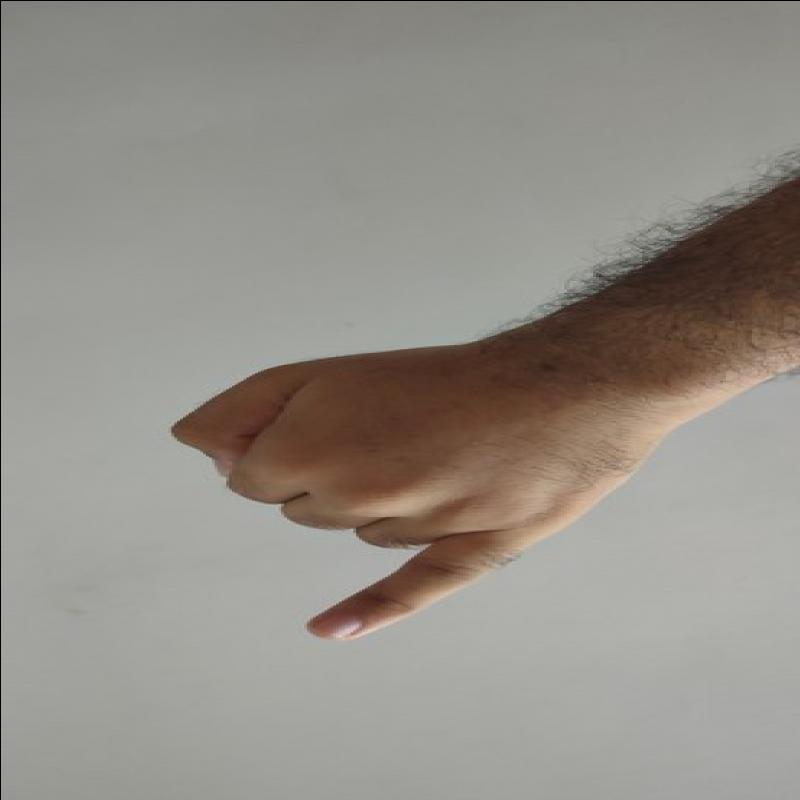Kartharee Mukham: (152, 322, 619, 661)
